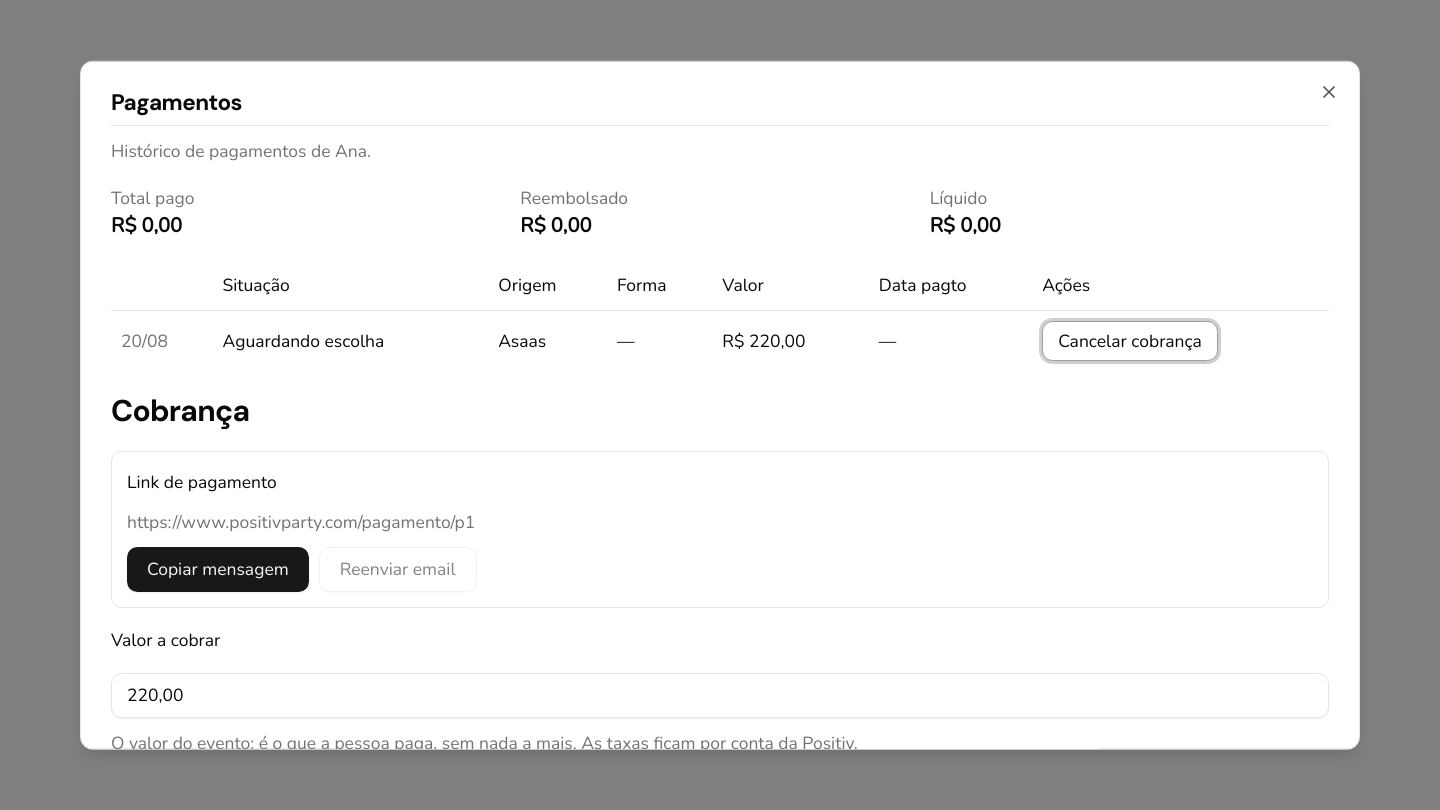
Test: ManagePaymentModal › refuses a second click while a cancellation is in flight
Click the button "Cancelar cobrança": {"x": 1130, "y": 341} [1042,321,1218,361]
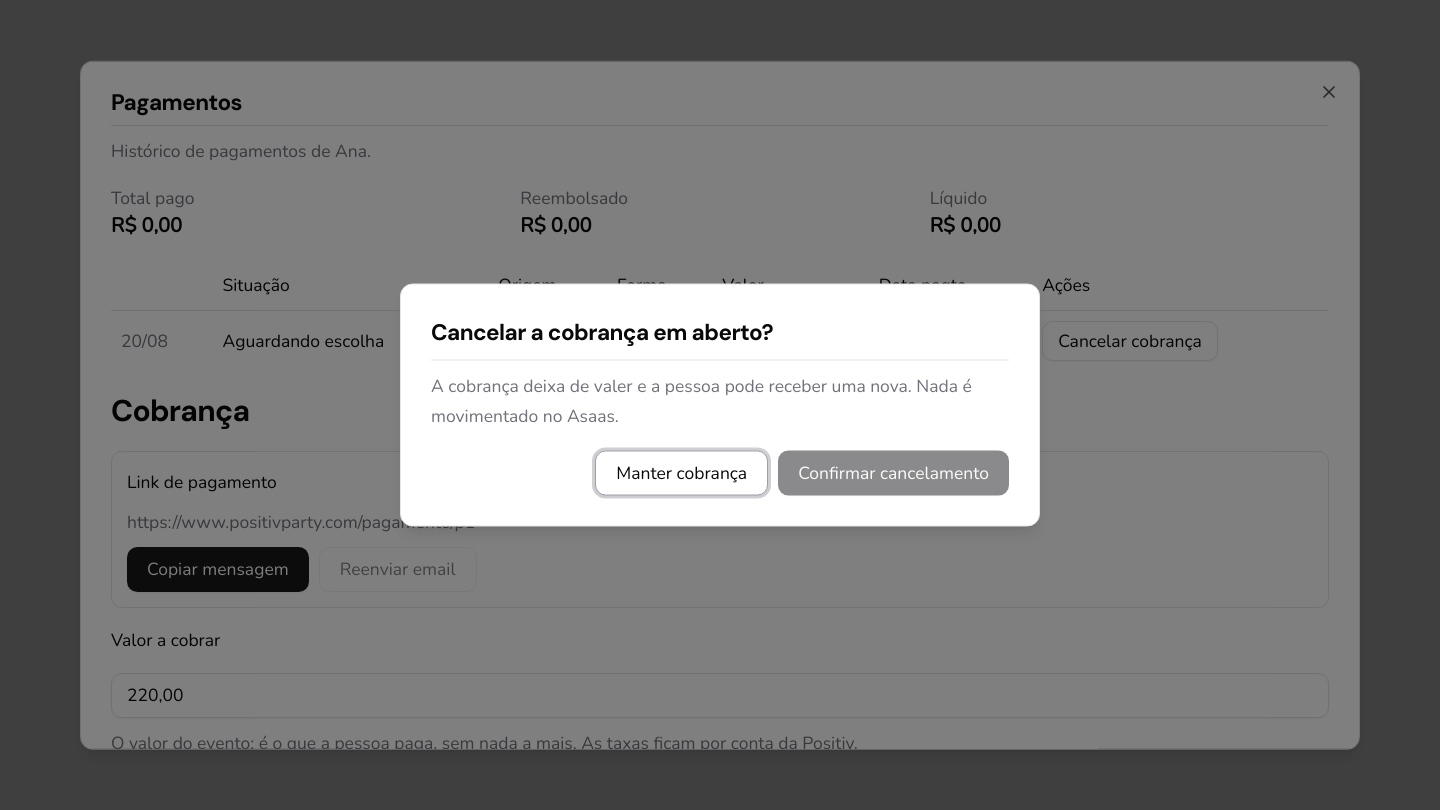
expect the button "Confirmar cancelamento" is disabled: met, box [778,450,1009,496]
